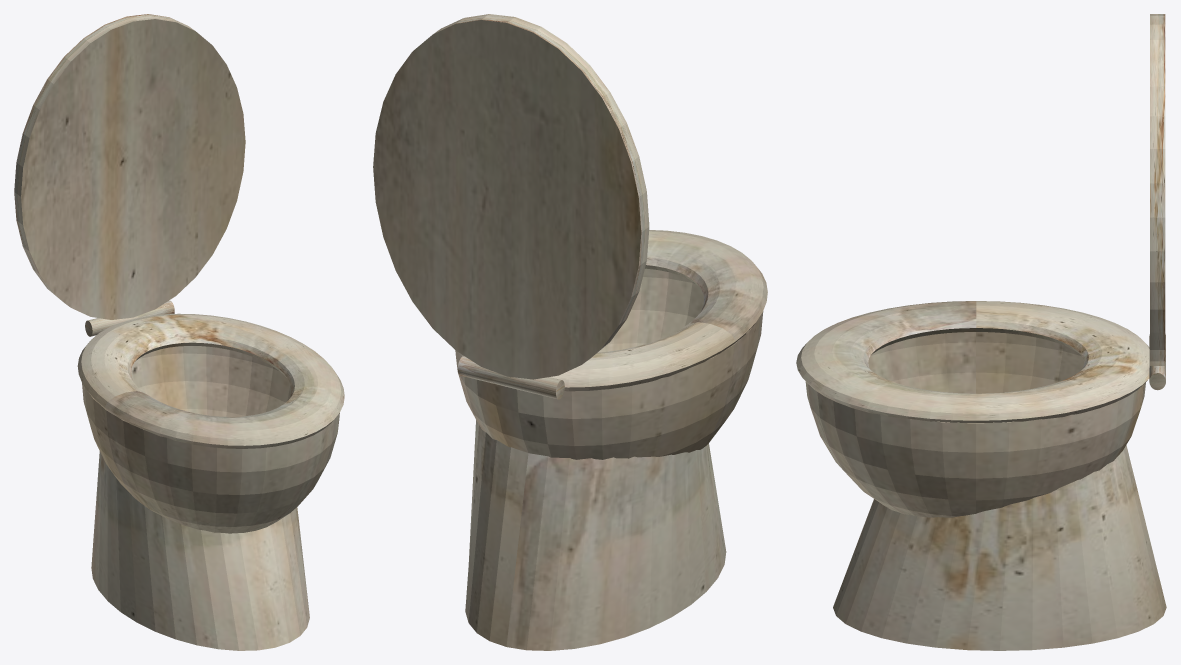
Rendered from klozet.fbx.
The picture shows the model from 3 angles, left to right: view 1: azimuth 30°, elevation 25°; view 2: azimuth 150°, elevation 25°; view 3: azimuth 270°, elevation 25°; orthographic projection. The views are drawn at different scales.
Visible parts, largest first — view 1: KlozetGovde, Kapak; view 2: KlozetGovde, Kapak; view 3: KlozetGovde, Kapak.
Boxes of the visible parts, left/top/right/bottom form: KlozetGovde: left=77, top=300, right=344, bottom=650; Kapak: left=14, top=14, right=245, bottom=319; KlozetGovde: left=455, top=230, right=767, bottom=650; Kapak: left=373, top=14, right=649, bottom=379; KlozetGovde: left=796, top=301, right=1166, bottom=650; Kapak: left=1150, top=14, right=1165, bottom=365.
Size of the model in its own units: 282 by 625 by 360.
1 material, 1 textured.
